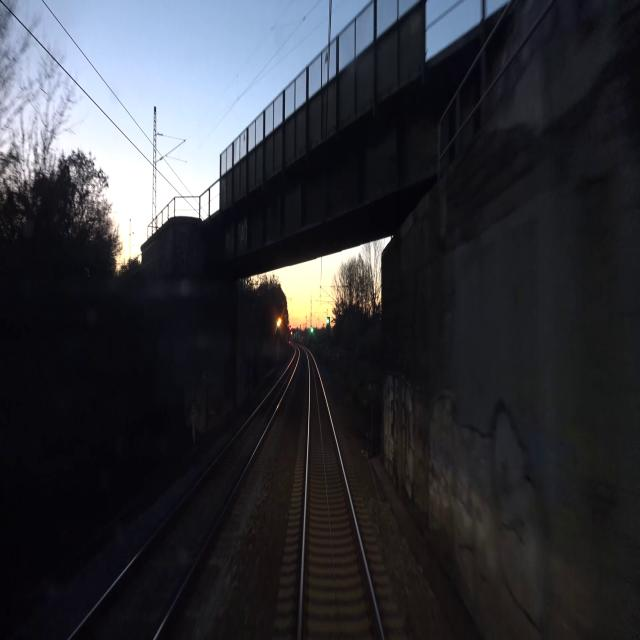rail-track: (73, 350, 297, 639), (302, 356, 380, 639)
